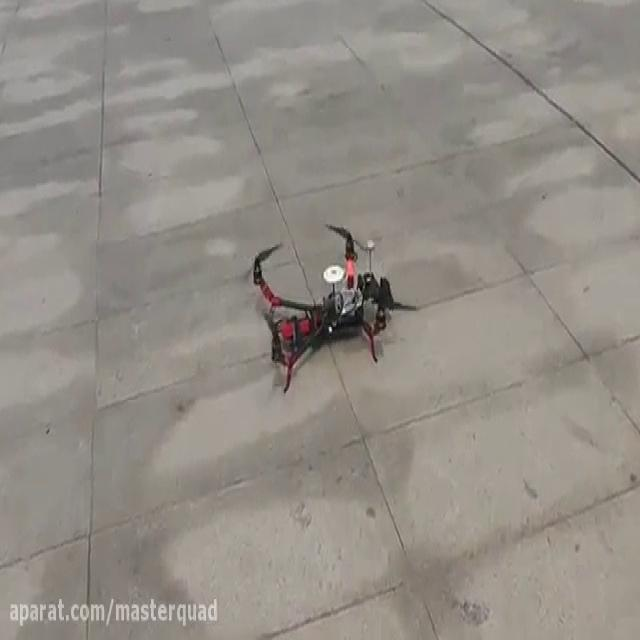drone: (234, 215, 421, 400)
